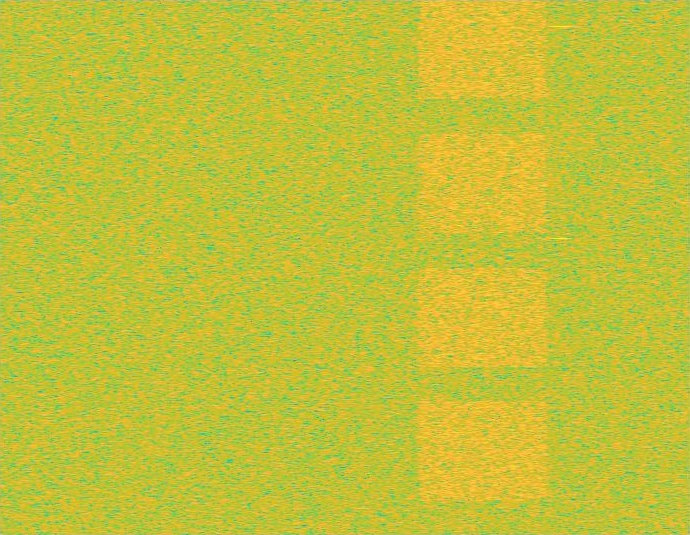5G: (414, 0, 552, 534)
Radar: (554, 0, 568, 534)
